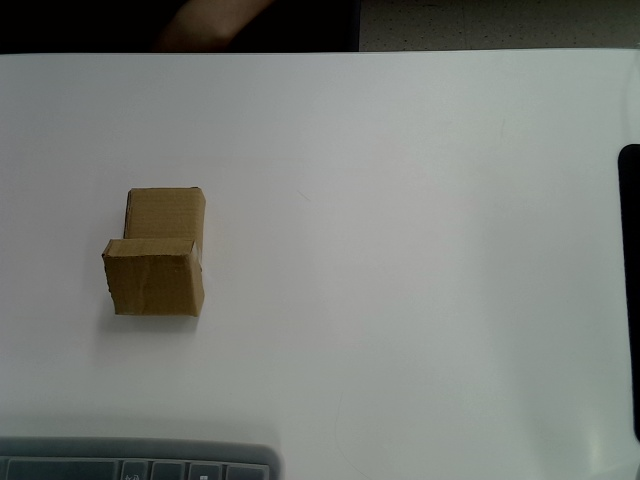normal: (103, 238, 209, 318), (123, 186, 205, 270)
